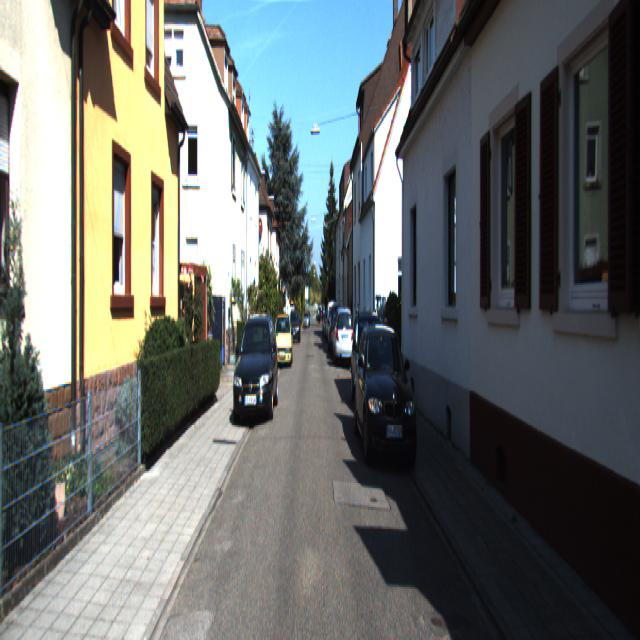Car: (353, 317, 418, 478), (233, 310, 279, 432), (352, 308, 391, 416), (334, 306, 356, 368), (274, 312, 293, 370)
